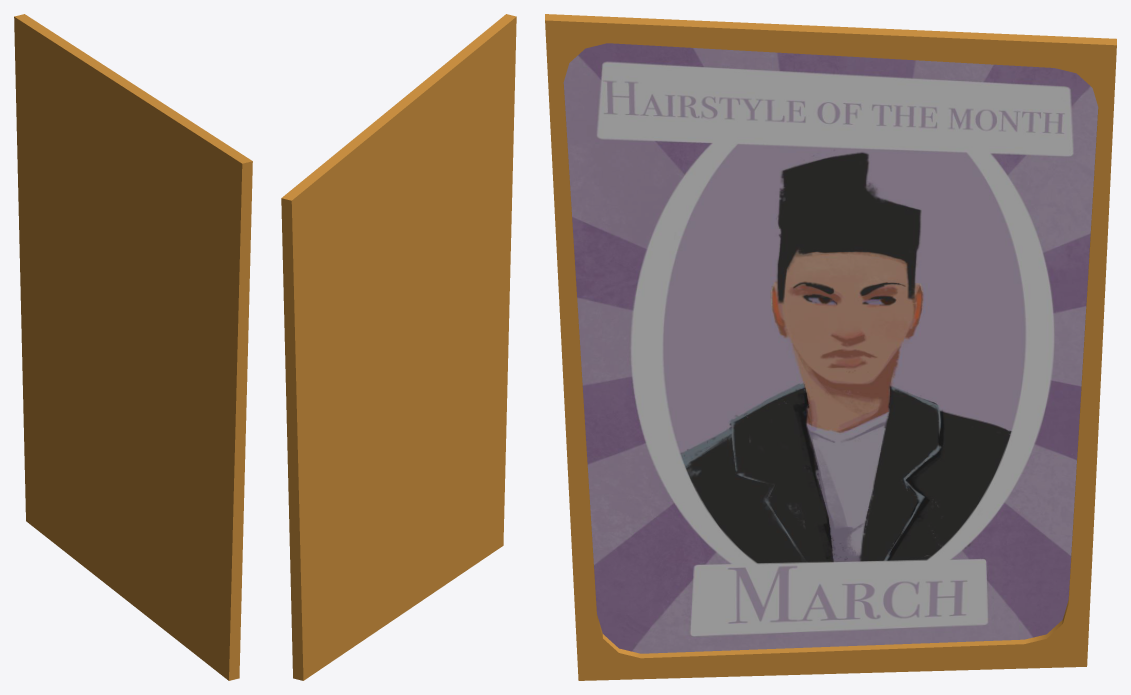
The model's file is hairstyle_poster.fbx.
The picture shows the model from 3 angles, left to right: view 1: azimuth 30°, elevation 25°; view 2: azimuth 150°, elevation 25°; view 3: azimuth 270°, elevation 25°; orthographic projection. The views are drawn at different scales.
Parts seen in each view (by area): view 1: pCube1; view 2: pCube1; view 3: pCube1.
Part boxes in pixels (box(x1,y1,x2,y2)): pCube1: box(14, 14, 252, 680); pCube1: box(281, 14, 516, 680); pCube1: box(545, 14, 1116, 680).
Size of the model in its own units: 1 by 47.62 by 37.37.
1 material, 1 textured.
